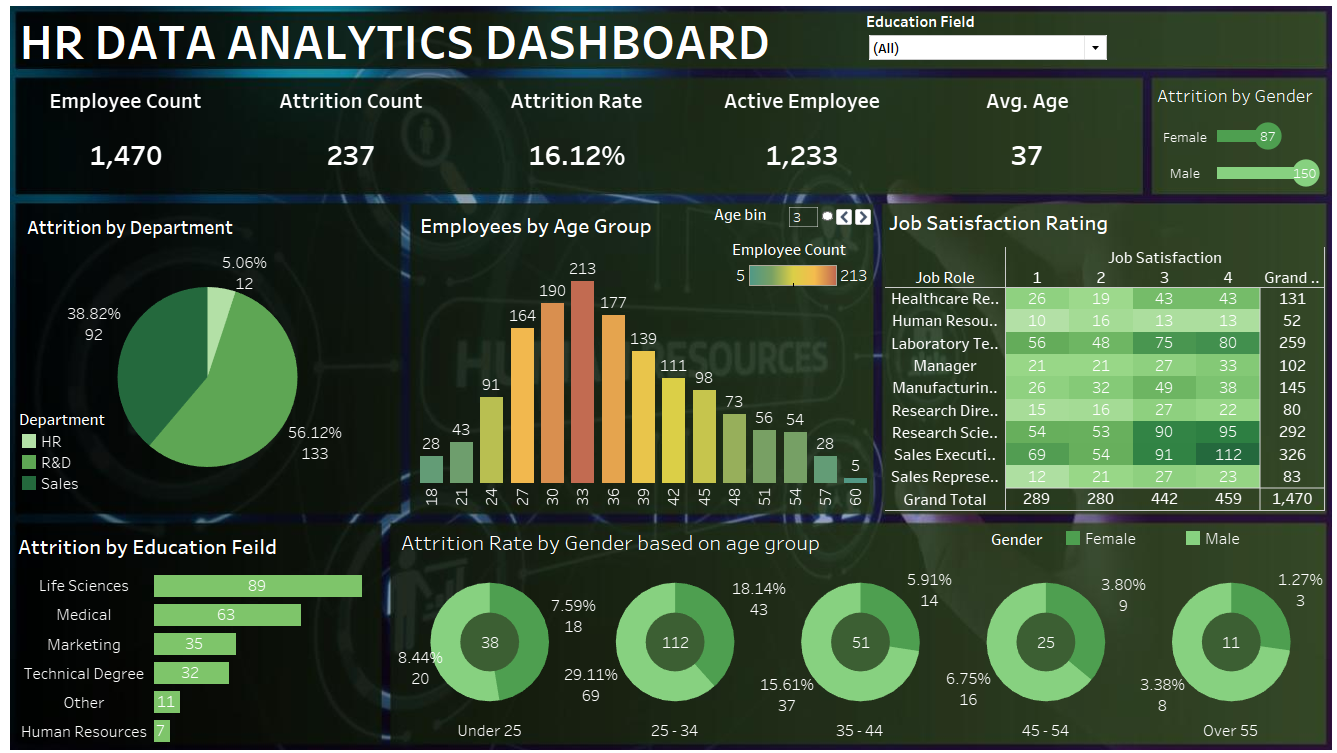

The dashboard page shown, as its layout file describes it:
{"tool":"tableau","page":{"name":"Dashboard 1","canvas":[1366,768],"ordinal":0},"visuals":[{"type":"image","param":"C:/Users/unish/Downloads/HR background.pptx.jpg","box":[8,8,1350,752]},{"type":"text","box":[18,17,843,58]},{"type":"filter","title":"Attrition by Education Feild","param":"[federated.0u1c4ka1wz81ei1devow109n9921].[none:Education Field:nk]","box":[868,17,244,52]},{"type":"worksheet","title":"Attrition by Gender","mark":"Automatic","rows":["Gender"],"cols":["Calculation_1901363492831678464","Calculation_1901363492831678464"],"box":[1155,85,171,112]},{"type":"worksheet","title":"KPI","mark":"Automatic","box":[15,86,1127,108]},{"type":"parameter","param":"[Parameters].[Parameter 1]","box":[716,210,160,35]},{"type":"worksheet","title":"Job Satisfaction Rating","mark":"Square","rows":["Job Role"],"cols":["Job Satisfaction"],"box":[887,210,440,307]},{"type":"worksheet","title":"Employees by Age Group","mark":"Automatic","rows":["Employee Count"],"cols":["Age (bin)"],"box":[418,213,455,302]},{"type":"worksheet","title":"Attrition by Department","mark":"Pie","box":[25,216,369,294]},{"type":"legend","title":"Employees by Age Group","param":"[federated.0u1c4ka1wz81ei1devow109n9921].[sum:Employee Count:qk]","box":[734,245,140,88]},{"type":"legend","title":"Attrition by Department","param":"[federated.0u1c4ka1wz81ei1devow109n9921].[none:Department:nk]","box":[21,415,111,85]},{"type":"worksheet","title":"Attrition Rate by Gender based on age group","mark":"Pie","rows":["Calculation_2200289918331731969","Calculation_2200289918331731969"],"cols":["CF_age band"],"box":[399,530,927,218]},{"type":"worksheet","title":"Attrition by Education Feild","mark":"Automatic","rows":["Education Field"],"cols":["Calculation_1901363492831678464"],"box":[16,534,360,218]},{"type":"legend","title":"Attrition Rate by Gender based on age group","param":"[federated.0u1c4ka1wz81ei1devow109n9921].[none:Gender:nk]","box":[993,534,328,22]}]}

Visuals, with their boxes in screenshot pixels (x1, y1, x2, y2), scaled from the page's 1366x768 canvas onto the 1337x753 screenshot:
image: region(8, 8, 1329, 745)
text: region(18, 17, 843, 74)
"Attrition by Education Feild" filter: region(850, 17, 1088, 68)
"Attrition by Gender" worksheet: region(1130, 83, 1298, 193)
"KPI" worksheet: region(15, 84, 1118, 190)
parameter: region(701, 206, 857, 240)
"Job Satisfaction Rating" worksheet (Square marks): region(868, 206, 1299, 507)
"Employees by Age Group" worksheet: region(409, 209, 854, 505)
"Attrition by Department" worksheet (Pie marks): region(24, 212, 386, 500)
"Employees by Age Group" legend: region(718, 240, 855, 326)
"Attrition by Department" legend: region(21, 407, 129, 490)
"Attrition Rate by Gender based on age group" worksheet (Pie marks): region(391, 520, 1298, 733)
"Attrition by Education Feild" worksheet: region(16, 524, 368, 737)
"Attrition Rate by Gender based on age group" legend: region(972, 524, 1293, 545)
